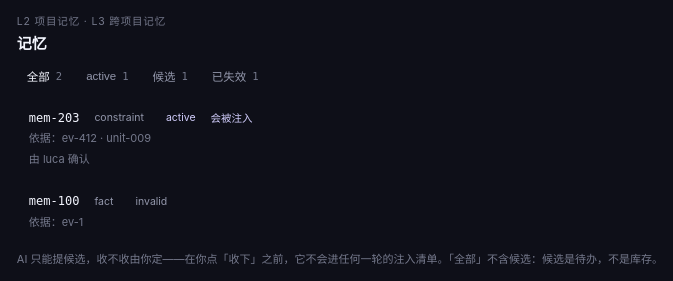
Test: 记忆页 › 审核失败时说清楚
The width and height of the screenshot is (673, 281).
Click the tab "候选 1".
click(170, 76)  # box [142,64,198,88]
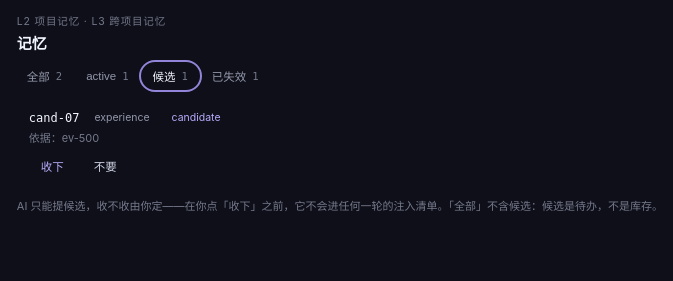
Click the button "收下".
click(52, 166)  # box [29,155,76,177]
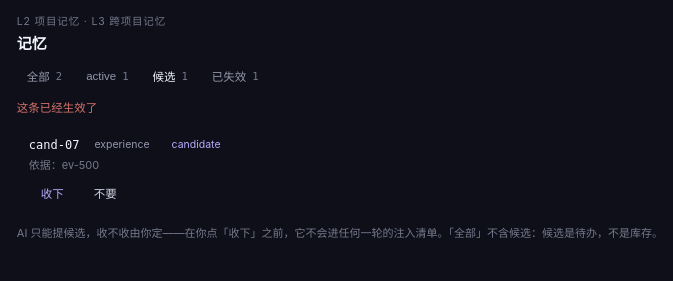
Expected: the text "这条已经生效了" is shown, [17,101,97,115]
